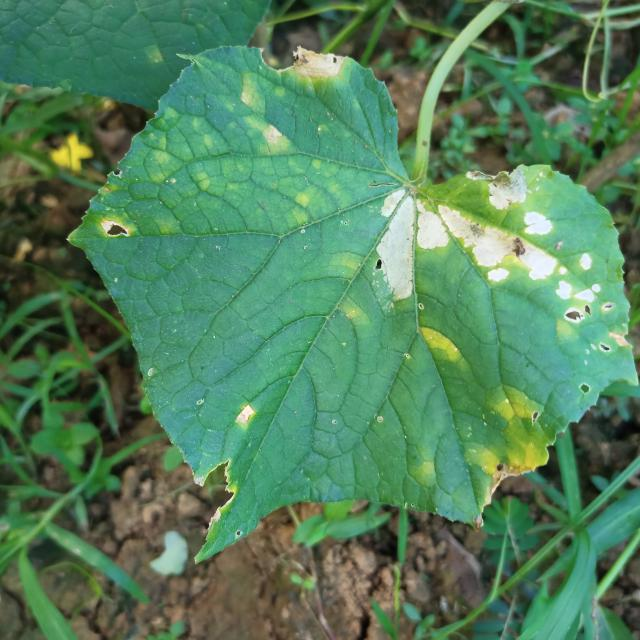disease_cucumber: (375, 169, 621, 337), (447, 383, 559, 487), (227, 76, 297, 168), (416, 321, 473, 365)
